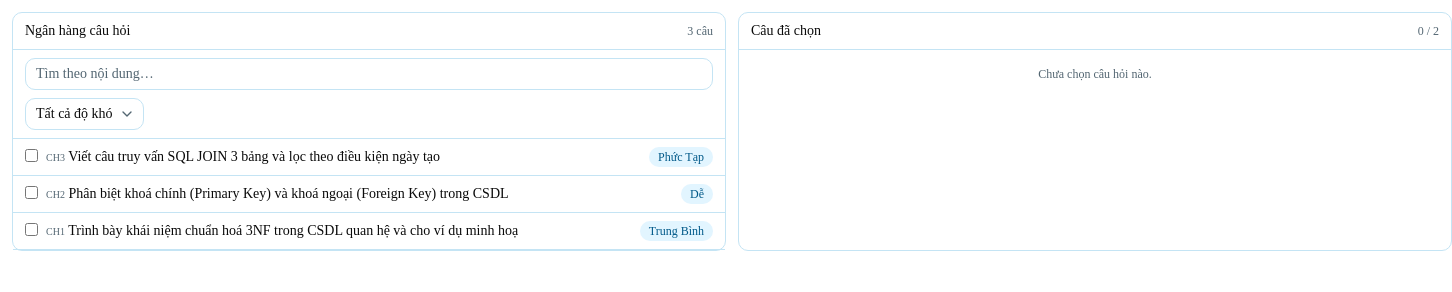
QuestionPicker › blocks adding past the max limit and warns
Expected: the text "3NF" is shown, [68,223,518,238]
Click the checkbox named "Câu hỏi 3" at [32, 156], box [25,149,38,162]
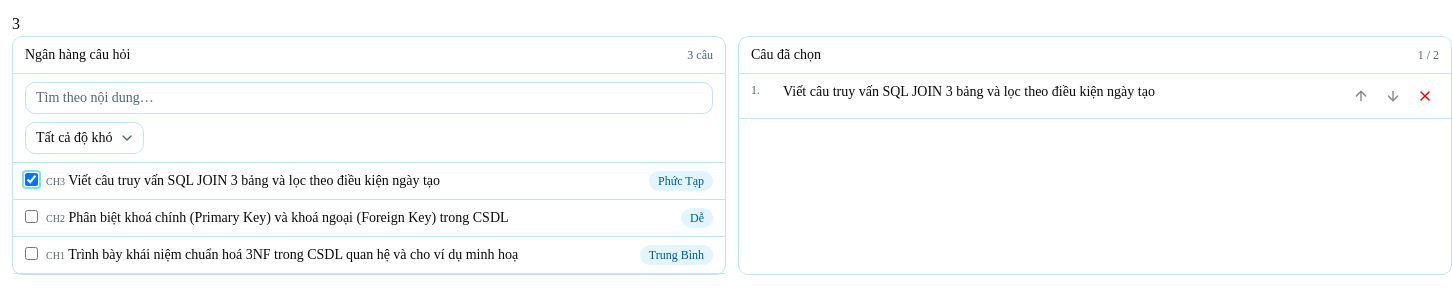
Click the checkbox named "Câu hỏi 2" at [32, 216], box [25,210,38,223]
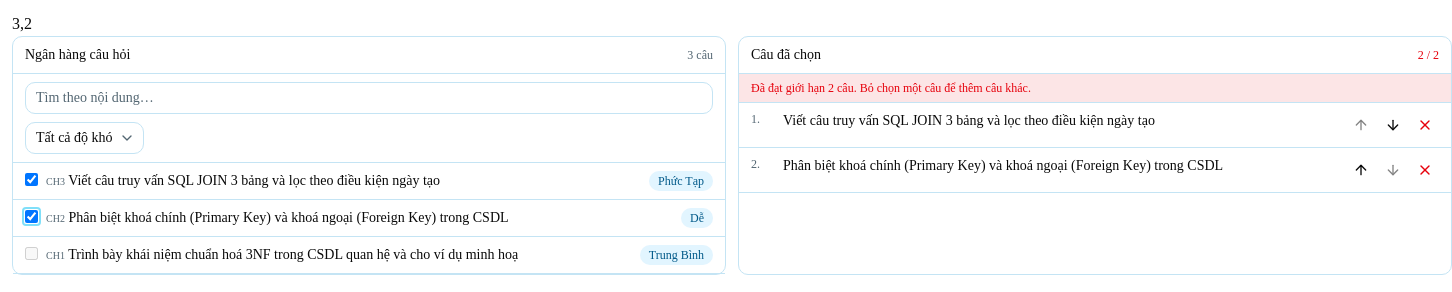
Expected: the text "Đã đạt giới hạn 2 câu. Bỏ chọn một câu để thêm câu khác." is shown, [739,74,1451,103]
Expected: the checkbox named "Câu hỏi 1" is disabled, [25,247,38,260]
